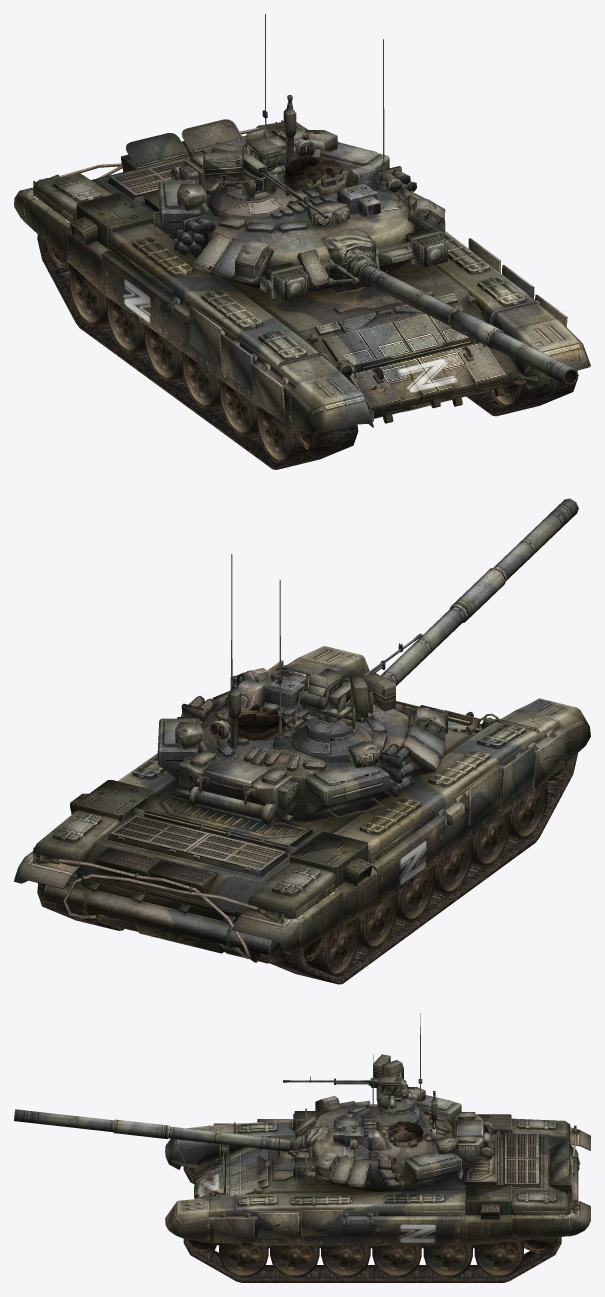
3 renders of one model, top to bottom at view 1: azimuth 30°, elevation 25°; view 2: azimuth 150°, elevation 25°; view 3: azimuth 270°, elevation 25°, orthographic. The views are drawn at different scales.
Parts seen in each view (by area): view 1: T90, Turret, Tracks, Cannon, Cannon_h; view 2: T90, Turret, Tracks, Cannon; view 3: T90, Turret, Tracks, Cannon, Cannon_h.
Part boxes in pixels (x1=…): T90: x1=14, y1=119, x2=590, y2=462; Turret: x1=153, y1=14, x2=447, y2=301; Tracks: x1=37, y1=234, x2=577, y2=469; Cannon: x1=361, y1=266, x2=578, y2=385; Cannon_h: x1=321, y1=229, x2=378, y2=292; T90: x1=14, y1=646, x2=590, y2=976; Turret: x1=157, y1=554, x2=447, y2=825; Tracks: x1=37, y1=753, x2=577, y2=984; Cannon: x1=381, y1=498, x2=578, y2=685; T90: x1=165, y1=1114, x2=590, y2=1277; Turret: x1=283, y1=1013, x2=493, y2=1191; Tracks: x1=183, y1=1167, x2=561, y2=1282; Cannon: x1=14, y1=1109, x2=289, y2=1151; Cannon_h: x1=288, y1=1125, x2=329, y2=1156.
Size of the model in its own units: 3890 by 4219 by 9867.
Materials: 3 (3 with a texture image).
